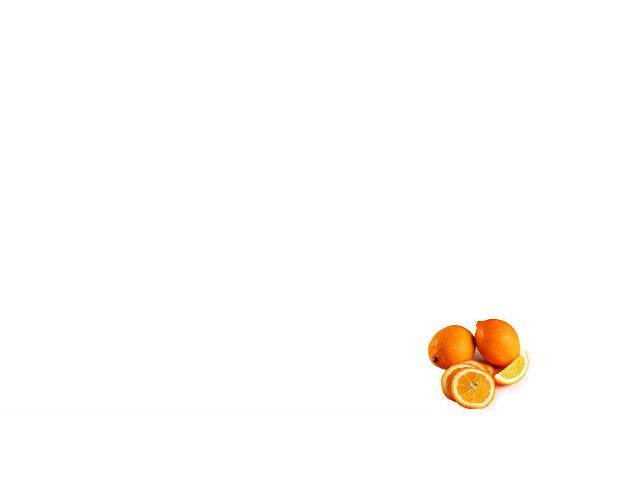lemon: (429, 324, 480, 367)
